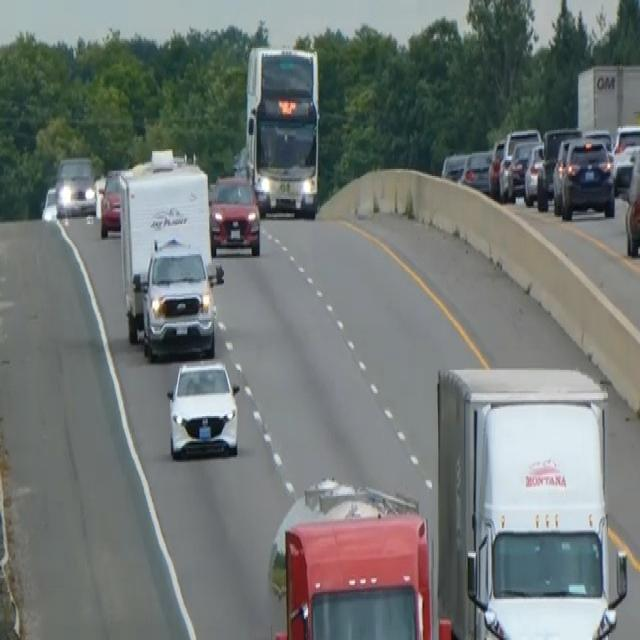bus: (243, 42, 321, 218)
car: (164, 356, 241, 462), (555, 135, 616, 221), (209, 172, 261, 256), (536, 126, 582, 208), (498, 126, 540, 199), (54, 153, 96, 217), (99, 167, 126, 238), (624, 142, 639, 256), (523, 142, 547, 206), (460, 148, 493, 192), (487, 137, 506, 195), (440, 149, 468, 183), (40, 183, 57, 221)
jeep: (138, 235, 221, 361)
lorry: (267, 476, 433, 638)
